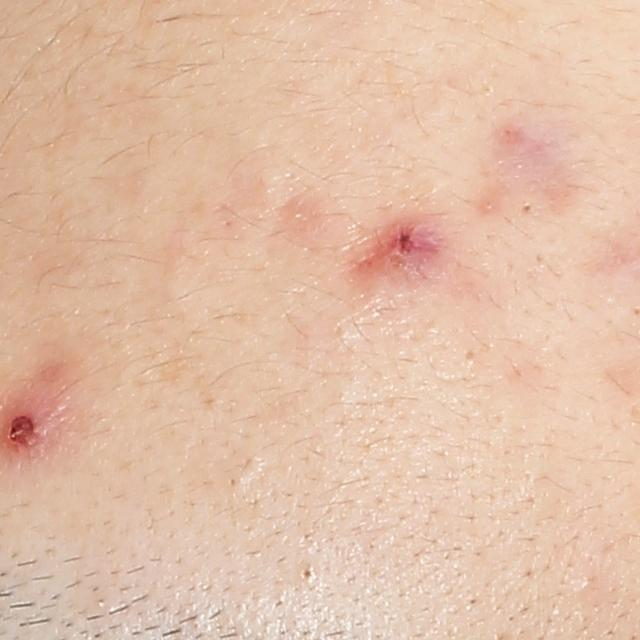comedo: (296, 563, 321, 586), (458, 344, 482, 366), (578, 574, 598, 592), (518, 199, 535, 217)
papule: (346, 219, 444, 288)
